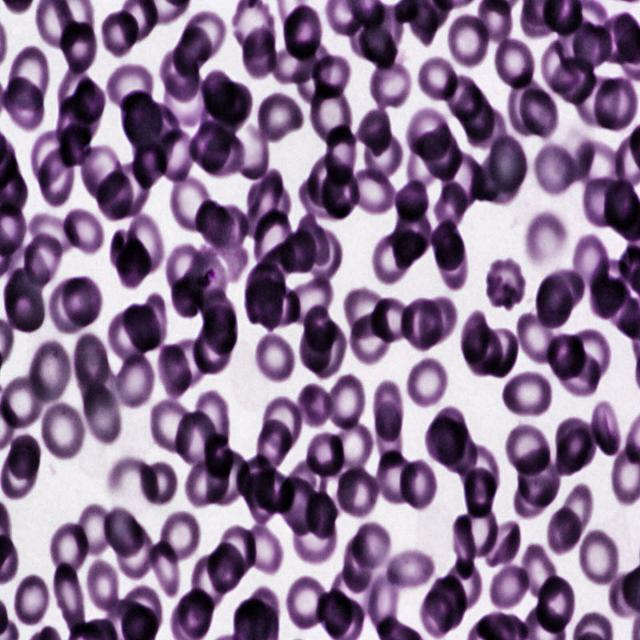red blood cell: (200, 82, 252, 154), (242, 170, 284, 242), (3, 266, 46, 336), (552, 414, 599, 478), (40, 399, 86, 463), (502, 366, 554, 422), (28, 341, 72, 406), (308, 88, 354, 149), (256, 90, 306, 145), (574, 139, 624, 194), (277, 475, 322, 536), (56, 15, 100, 77), (78, 143, 124, 202), (504, 422, 552, 478), (285, 574, 331, 632), (524, 210, 569, 269), (517, 541, 559, 604), (446, 13, 492, 70), (578, 527, 620, 589), (282, 2, 324, 64), (533, 574, 575, 636), (493, 33, 536, 93), (516, 448, 562, 504), (420, 124, 464, 182), (590, 258, 631, 320), (157, 508, 204, 562), (455, 441, 499, 498), (120, 90, 164, 147), (108, 160, 151, 218), (298, 176, 351, 223), (10, 46, 50, 108), (325, 372, 367, 431), (2, 374, 47, 429), (336, 463, 380, 519), (162, 74, 206, 130), (255, 210, 292, 276), (532, 146, 578, 199), (580, 177, 626, 230), (49, 520, 91, 578), (206, 450, 248, 508), (506, 77, 548, 135), (368, 58, 413, 112), (372, 451, 416, 506), (405, 355, 448, 411), (328, 570, 376, 620), (291, 514, 338, 565), (442, 154, 484, 211), (593, 79, 639, 131), (558, 11, 598, 70), (84, 382, 122, 444), (391, 210, 433, 266), (406, 108, 451, 160), (295, 42, 331, 107), (163, 74, 208, 126), (159, 50, 202, 104), (58, 61, 96, 122), (396, 456, 438, 511), (286, 278, 334, 326), (350, 166, 397, 215), (50, 279, 91, 335), (516, 313, 560, 365), (489, 134, 529, 191), (320, 165, 360, 222), (32, 130, 72, 187), (175, 411, 218, 464), (102, 504, 144, 558), (170, 176, 212, 230), (307, 154, 349, 208), (54, 561, 85, 634), (254, 331, 295, 386), (5, 78, 46, 133), (182, 12, 227, 62), (488, 559, 531, 611), (108, 310, 150, 363), (186, 458, 230, 508), (237, 454, 276, 510), (456, 88, 495, 144), (151, 400, 192, 453), (310, 322, 348, 379), (245, 275, 283, 332), (536, 272, 572, 332), (520, 88, 560, 142), (268, 45, 322, 85), (458, 504, 498, 558), (344, 289, 387, 339), (576, 75, 619, 125), (72, 336, 109, 394), (541, 39, 580, 94), (305, 430, 347, 481), (400, 300, 442, 351), (243, 524, 285, 575), (332, 423, 374, 474), (129, 213, 164, 274), (13, 572, 51, 628), (172, 24, 212, 77), (38, 150, 75, 207), (567, 330, 610, 379), (350, 520, 392, 570), (117, 529, 158, 580), (1, 447, 40, 500), (207, 541, 246, 594), (464, 324, 503, 377), (341, 535, 376, 594), (168, 338, 210, 387), (264, 398, 302, 452), (194, 391, 230, 448), (486, 259, 527, 309), (351, 315, 391, 366), (159, 128, 196, 183), (373, 378, 402, 448), (372, 295, 411, 347), (556, 350, 601, 395), (107, 65, 154, 108), (386, 548, 434, 590), (553, 58, 595, 106), (56, 95, 92, 151), (195, 323, 233, 376), (96, 170, 134, 223), (28, 214, 78, 254), (76, 506, 115, 557), (367, 571, 398, 635), (62, 211, 105, 257), (240, 28, 278, 80), (24, 232, 62, 284), (365, 131, 403, 183), (374, 232, 412, 284), (101, 9, 143, 56), (191, 554, 225, 612), (417, 54, 458, 102), (545, 330, 586, 378), (62, 276, 102, 325), (425, 416, 465, 465), (116, 235, 151, 291), (431, 576, 466, 632), (205, 128, 245, 177), (296, 211, 331, 267), (117, 356, 155, 407), (157, 343, 191, 400), (176, 588, 214, 639), (253, 467, 294, 514), (465, 106, 506, 153), (445, 560, 482, 612), (192, 122, 231, 171), (304, 230, 342, 280), (123, 302, 161, 352), (419, 586, 454, 640), (260, 283, 302, 328), (590, 399, 622, 458), (572, 24, 613, 70), (441, 427, 480, 475), (574, 235, 608, 290), (220, 525, 258, 574), (418, 296, 456, 345), (483, 522, 524, 567), (358, 22, 398, 68), (358, 103, 392, 157), (316, 587, 352, 638), (431, 217, 465, 271), (484, 327, 520, 378), (463, 466, 497, 520), (444, 74, 482, 122), (434, 180, 470, 230), (167, 246, 203, 296), (559, 484, 592, 538), (203, 307, 240, 355), (432, 409, 468, 458), (133, 140, 168, 190), (200, 70, 238, 116), (324, 128, 354, 186), (151, 540, 180, 600), (546, 507, 582, 555), (258, 420, 290, 474), (245, 472, 277, 526), (437, 238, 469, 292), (281, 229, 317, 277), (296, 384, 336, 427), (139, 463, 178, 506), (312, 53, 349, 98), (513, 475, 550, 520), (451, 515, 477, 579), (85, 560, 118, 610), (299, 324, 332, 374), (305, 491, 339, 539), (7, 433, 41, 480), (58, 120, 92, 167), (304, 305, 338, 352), (197, 198, 230, 246), (394, 179, 430, 222), (462, 309, 491, 362), (110, 228, 141, 276), (73, 75, 104, 122), (204, 435, 234, 480), (168, 276, 200, 318), (143, 293, 167, 348)
ring: (190, 210, 248, 293)
